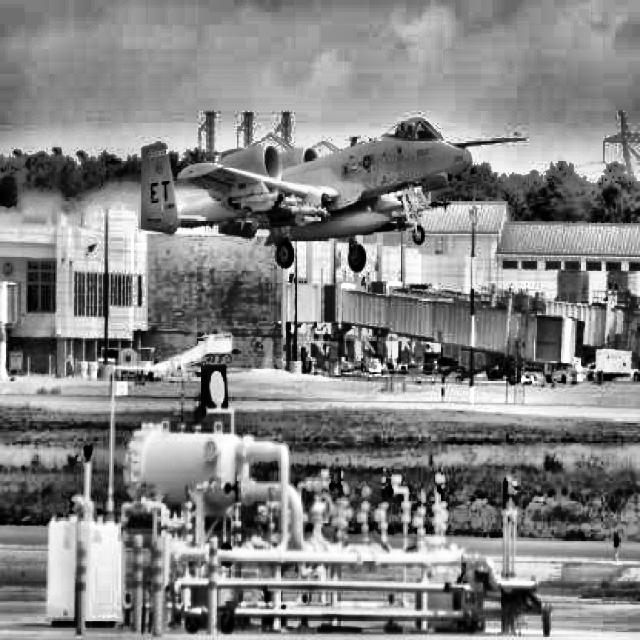A10: (139, 119, 526, 272)
